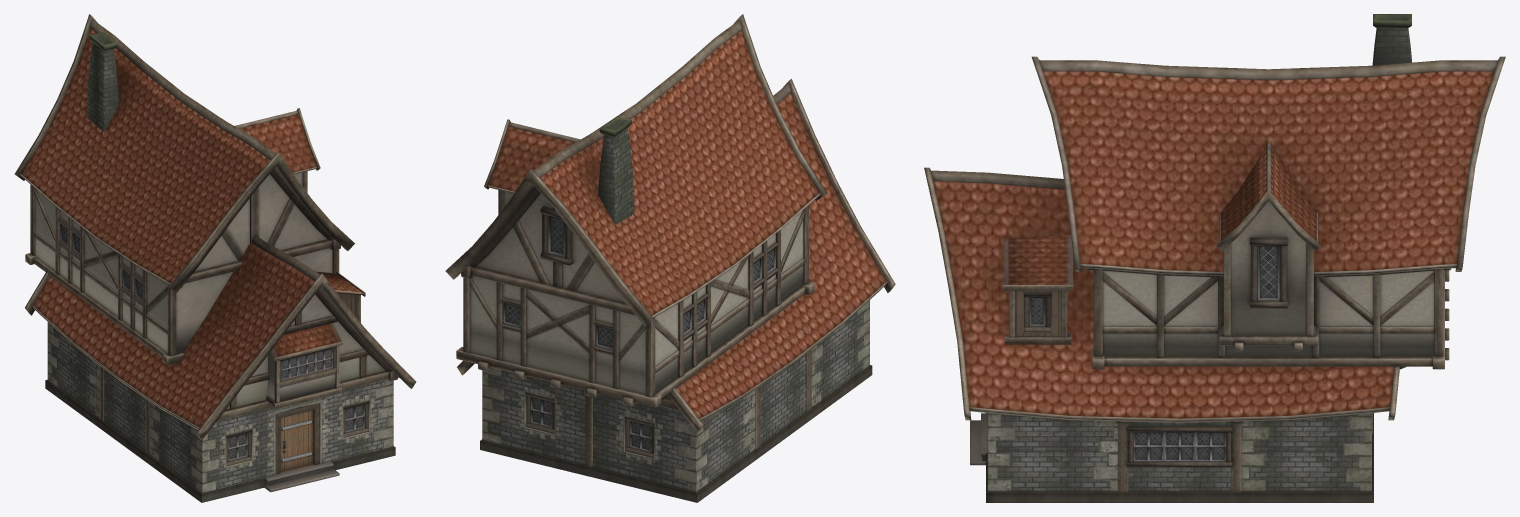
File: casarao_madeira.glb
3 renders of one model, left to right at view 1: azimuth 30°, elevation 25°; view 2: azimuth 150°, elevation 25°; view 3: azimuth 270°, elevation 25°, orthographic. The views are drawn at different scales.
Parts seen in each view (by area): view 1: Roof, Wood, WallBrick, Wall, DoorAndWindow; view 2: Roof, WallBrick, Wood, Wall, DoorAndWindow; view 3: Roof, Wood, WallBrick, Wall, DoorAndWindow.
Boxes of the visible parts, x1,y1,x2,y2 form: Roof: (21,28,363,427); Wood: (14,14,416,474); WallBrick: (45,32,395,502); Wall: (35,172,384,409); DoorAndWindow: (58,218,369,472); Roof: (488,30,886,418); WallBrick: (480,116,872,502); Wood: (445,14,895,466); Wall: (470,191,803,397); DoorAndWindow: (502,206,777,457); Roof: (933,71,1494,418); Wood: (924,56,1505,491); WallBrick: (970,14,1412,502); Wall: (1015,201,1434,356); DoorAndWindow: (1024,237,1287,467).
Bounding box in the file's own units: 8.19 × 11.46 × 14.84.
5 materials, 5 textured.
